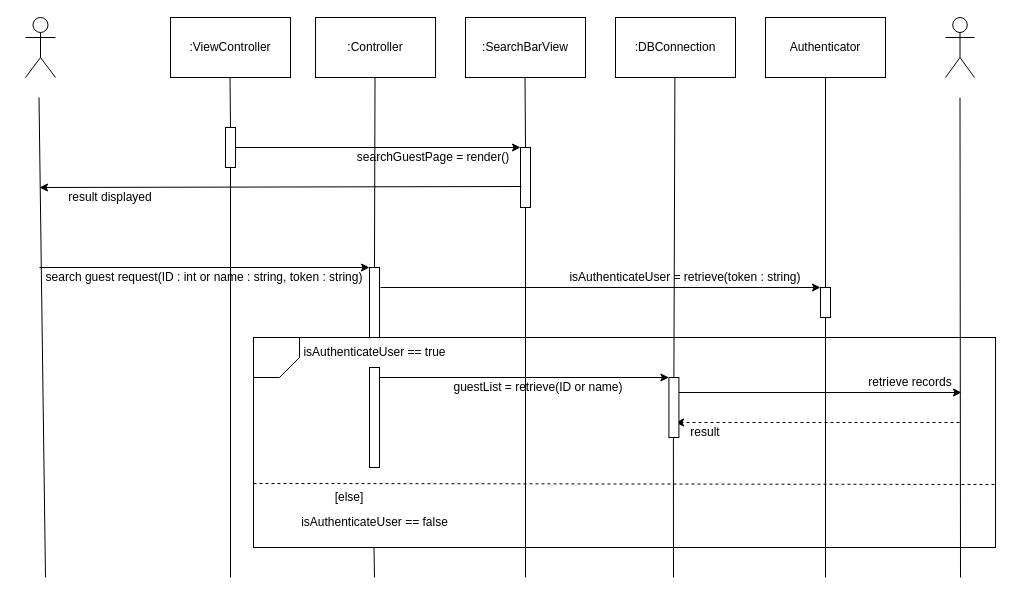
Image size: 1015x596. Some labels were removed from this diagram. Each missing label, with the centre of its shape:
"alt" goes at (x=276, y=357).
"Database" goes at (x=959, y=47).
"Manager" goes at (x=40, y=47).
